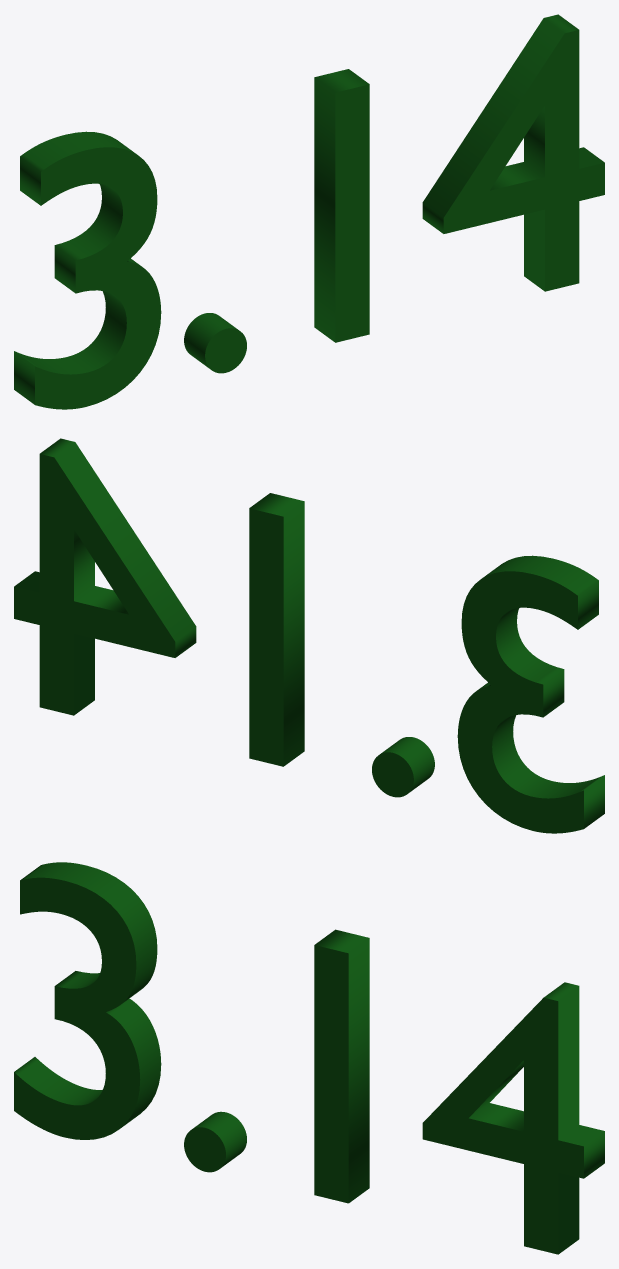
The model's file is threepointonefour.glb.
3 renders of one model, top to bottom at view 1: azimuth 30°, elevation 25°; view 2: azimuth 150°, elevation 25°; view 3: azimuth 330°, elevation 25°, orthographic.
Parts seen in each view (by area): view 1: Text; view 2: Text; view 3: Text.
Boxes of the visible parts, x1,y1,x2,y2 form: Text: [14, 14, 604, 409]; Text: [14, 438, 604, 833]; Text: [14, 862, 604, 1254].
Size of the model in its own units: 1.63 by 0.7 by 0.104.
